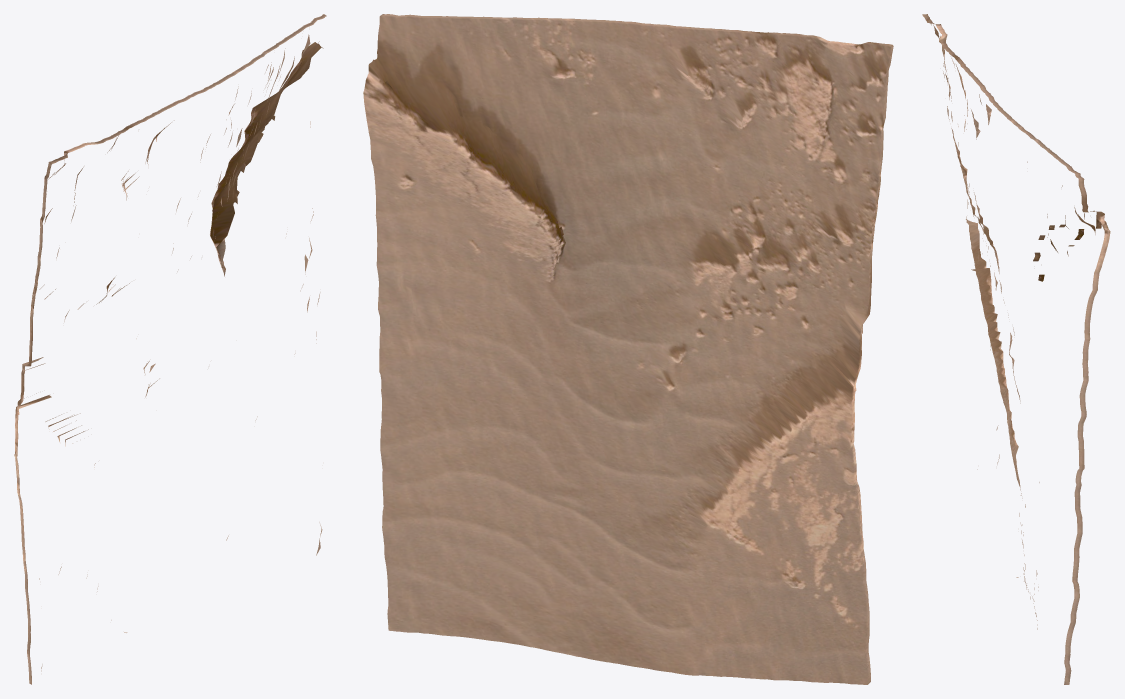
3 views of the same model, side by side, from view 1: azimuth 30°, elevation 25°; view 2: azimuth 150°, elevation 25°; view 3: azimuth 270°, elevation 25° (orthographic). The views are drawn at different scales.
Bounding box in the file's own units: 0.7209 × 1.03 × 0.3471.
Materials: 1 (1 with a texture image).
